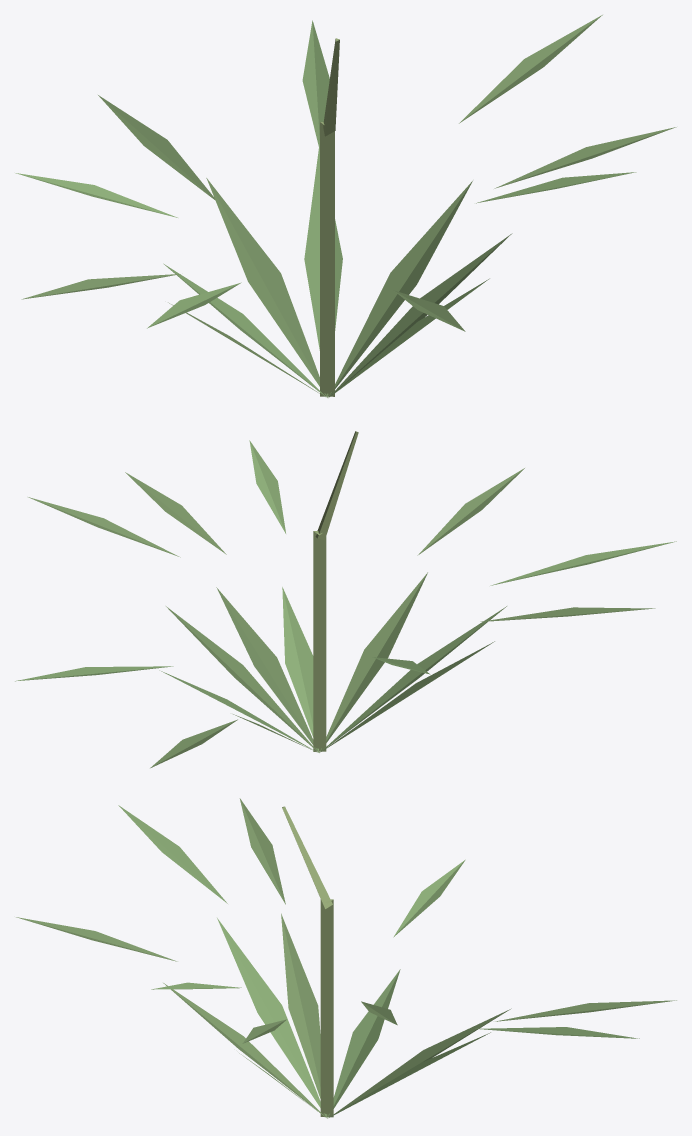
File: hua.lan@subadult__bloom.glb
The picture shows the model from 3 angles, top to bottom: view 1: azimuth 30°, elevation 25°; view 2: azimuth 150°, elevation 25°; view 3: azimuth 270°, elevation 25°; orthographic projection. The views are drawn at different scales.
Parts seen in each view (by area): view 1: hua.lan@subadult__bloom; view 2: hua.lan@subadult__bloom; view 3: hua.lan@subadult__bloom.
Part boxes in pixels (x1,y1,x2,y2): hua.lan@subadult__bloom: [15, 15, 676, 397]; hua.lan@subadult__bloom: [15, 431, 676, 768]; hua.lan@subadult__bloom: [16, 798, 676, 1118].
Size of the model in its own units: 0.7407 by 0.3985 by 0.7861.
